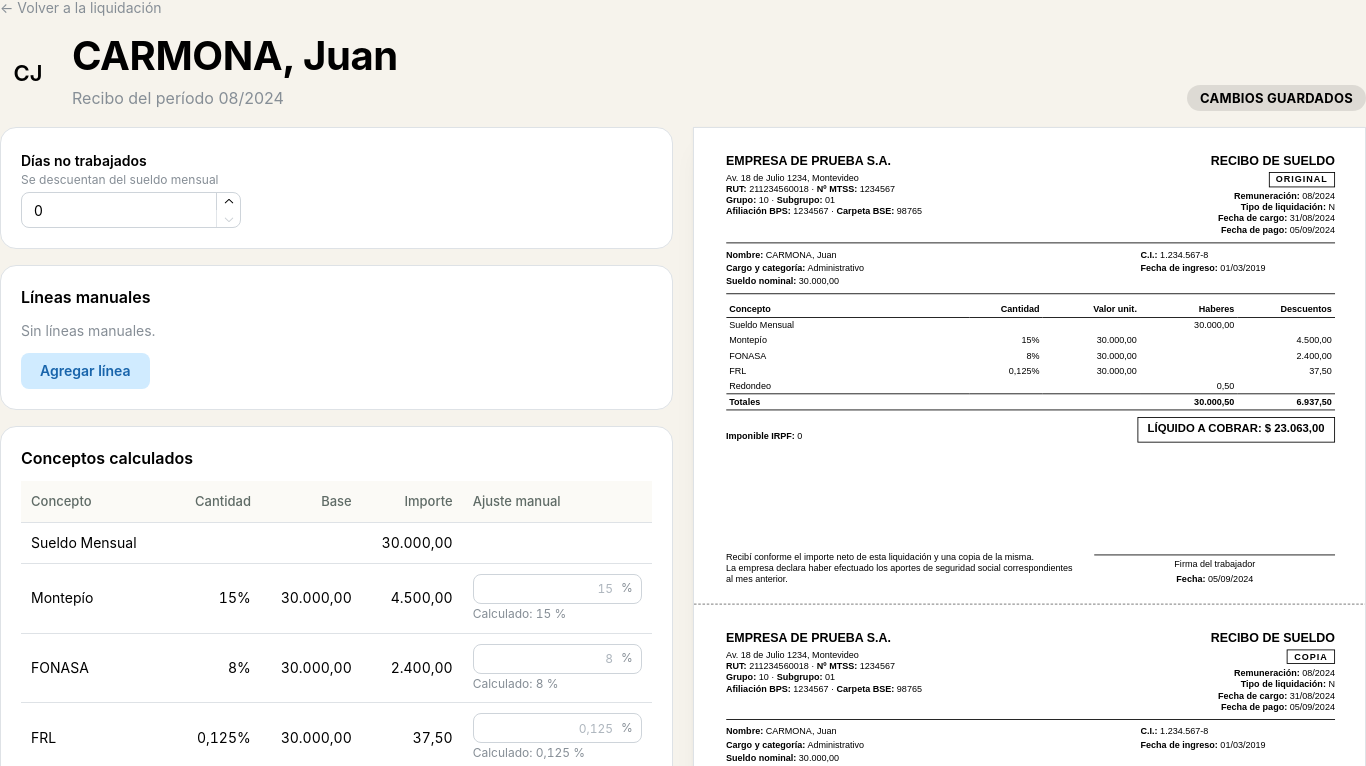
ReciboEditorPage › autosaves días no trabajados and shows the recomputed totals from main
Step 1. Replace the text in the field labelled "Días no trabajados" with "2" → point(131, 210), box [21,192,241,228]
(page scrolled)
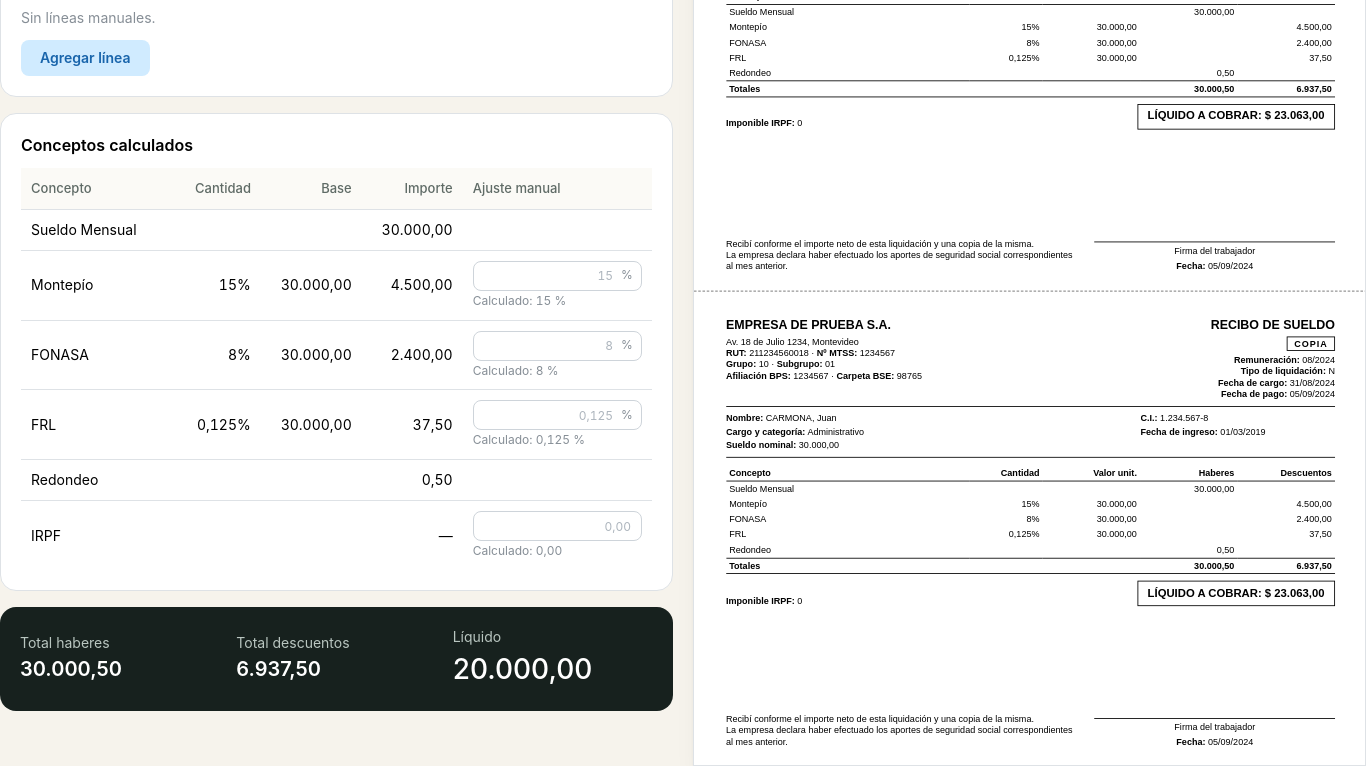
Result: the text with test id "total-Líquido" reads "20.000,00" at [453,652,592,686]
